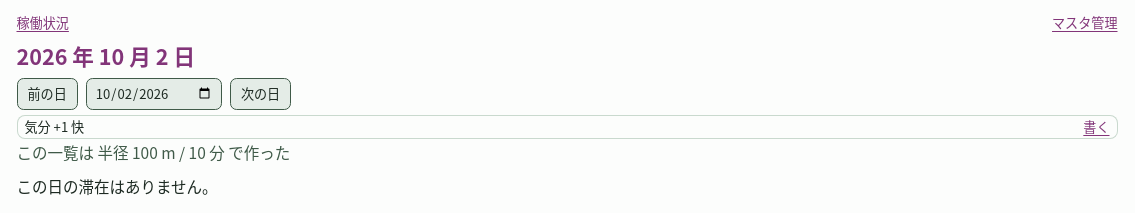
it: 頭の欄 › 「記入あり」の日から前の日（未記入）へ移ると、欄が「気分 未記入」に変わる
The image size is (1135, 213).
Expected: the text with test id "day-feeling-text" reads "気分 +1 快", x1=24 y1=117 x2=84 y2=136
What coordinates should you click on to do the following:
click the button "前の日"
I would click on:
 (47, 94)
Its box is x1=16 y1=78 x2=78 y2=110.
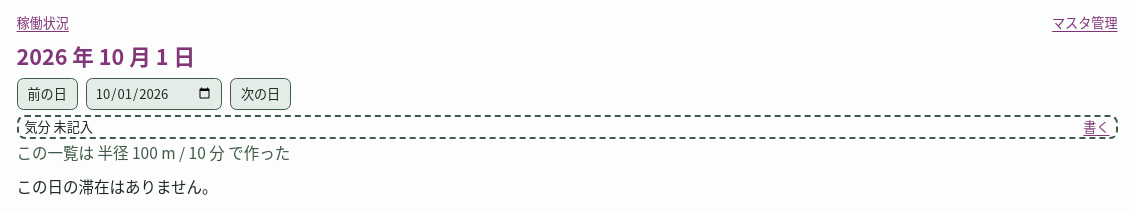
Expected: the heading with test id "day-title" shows "1 日", x1=16 y1=40 x2=195 y2=71
Expected: the text with test id "day-feeling-text" reads "気分 未記入", x1=24 y1=117 x2=93 y2=136
